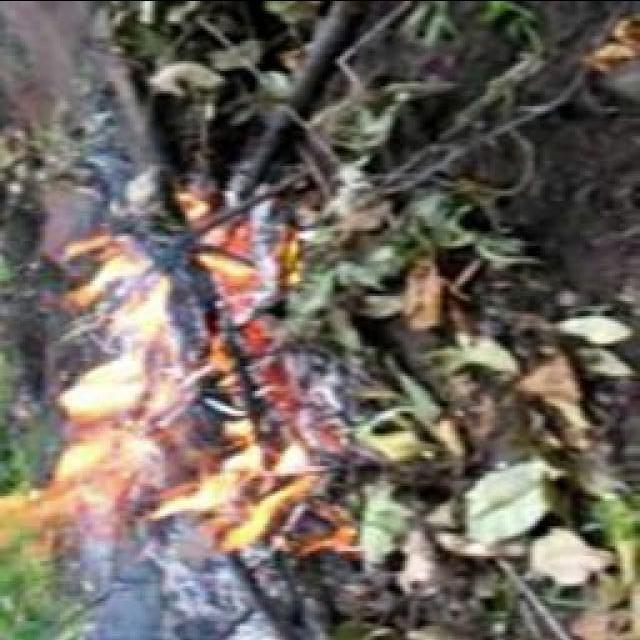Fire: (2, 227, 306, 554)
